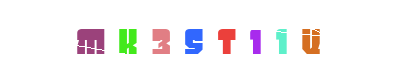1: (216, 0, 296, 80), (220, 0, 300, 80)
3: (132, 0, 212, 80)
K: (87, 0, 167, 80)
M: (51, 0, 131, 80)
S: (153, 0, 233, 80)
T: (166, 0, 246, 80)
U: (232, 0, 312, 80)
